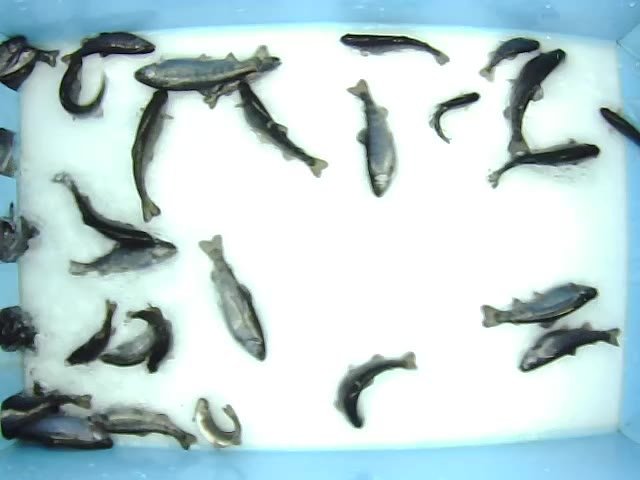fish: (196, 232, 268, 364), (236, 81, 328, 181), (50, 169, 155, 247), (500, 48, 569, 155), (133, 43, 281, 92), (333, 348, 417, 433), (476, 279, 600, 331), (130, 88, 175, 225), (346, 78, 397, 197), (486, 139, 601, 191), (514, 324, 621, 372), (97, 302, 165, 369), (87, 414, 206, 452), (65, 239, 177, 278), (335, 32, 452, 67), (64, 297, 119, 368), (123, 302, 175, 376), (57, 54, 110, 122), (59, 29, 156, 65), (480, 34, 545, 81), (428, 88, 482, 144), (193, 396, 245, 449)
